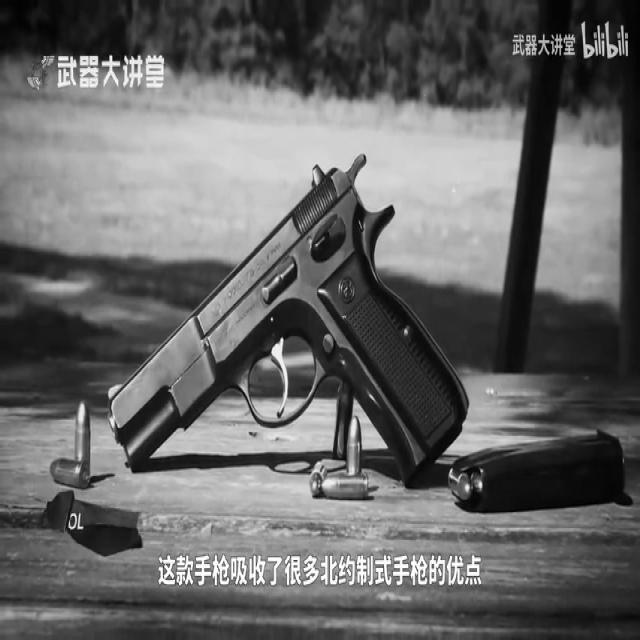Hand-Gun: (84, 134, 492, 573)
